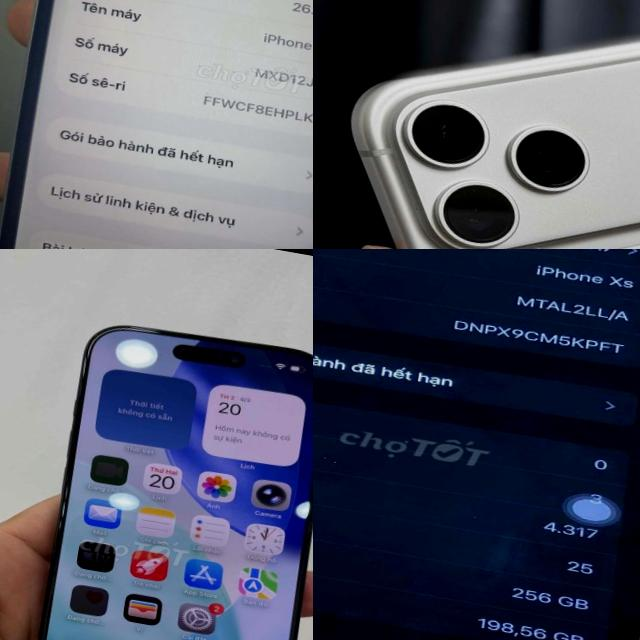gen_16: (38, 325, 313, 640)
gen_17: (313, 0, 640, 249)
gen_7_8: (0, 0, 313, 249)
gen_x_xs: (313, 249, 640, 640)
